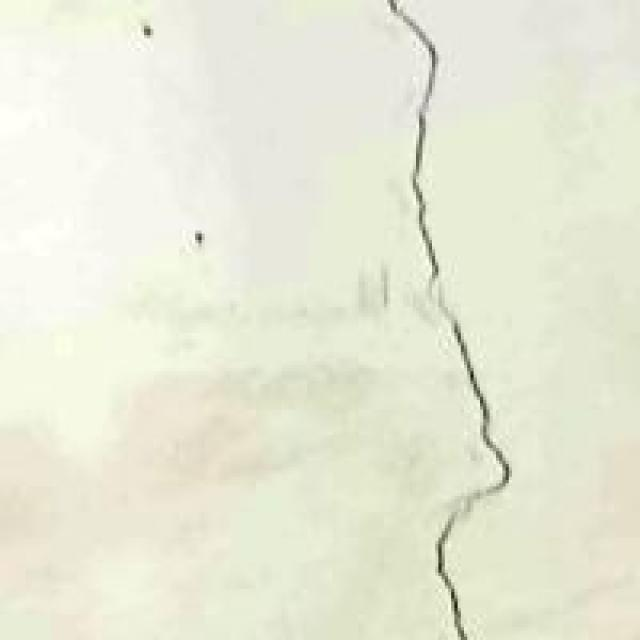Crack: (339, 0, 560, 637)
